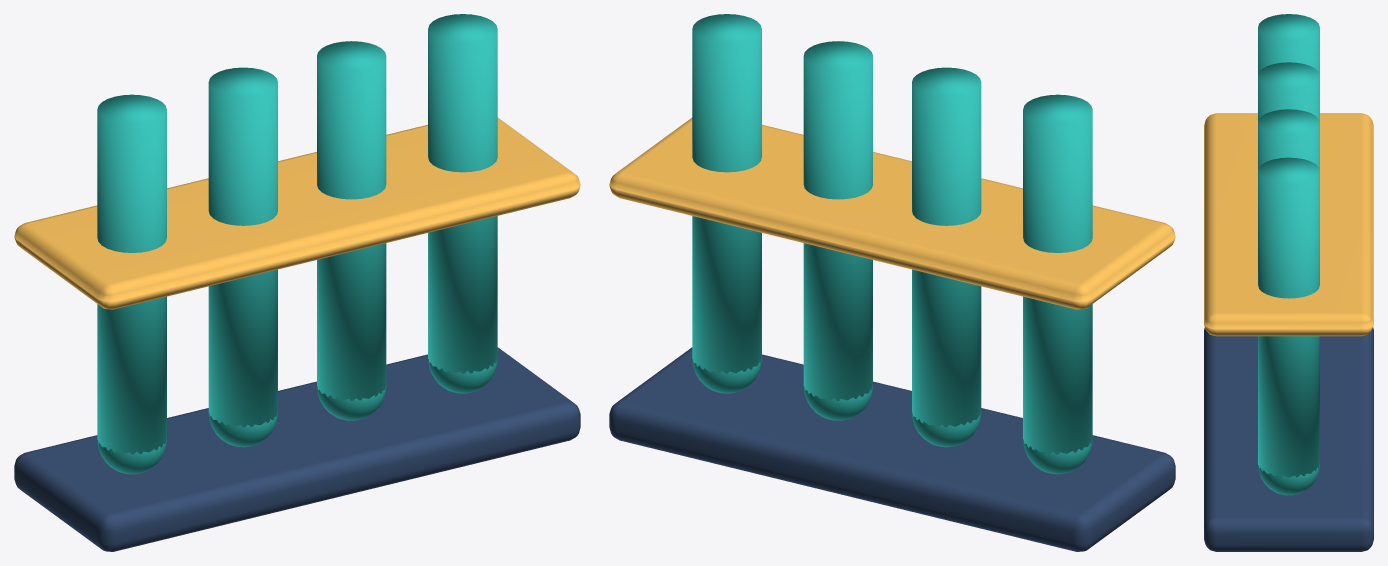
The model's file is test-tube-rack-quality.glb.
The picture shows the model from 3 angles, left to right: view 1: azimuth 30°, elevation 25°; view 2: azimuth 150°, elevation 25°; view 3: azimuth 270°, elevation 25°; orthographic projection. The views are drawn at different scales.
Parts seen in each view (by area): view 1: Rack base; view 2: Rack base; view 3: Rack base.
Boxes of the visible parts, <box> form: Rack base: <box>14,14,580,551</box>; Rack base: <box>609,14,1175,551</box>; Rack base: <box>1204,14,1373,551</box>.
Bounding box in the file's own units: 1.6 × 1.26 × 0.55.
